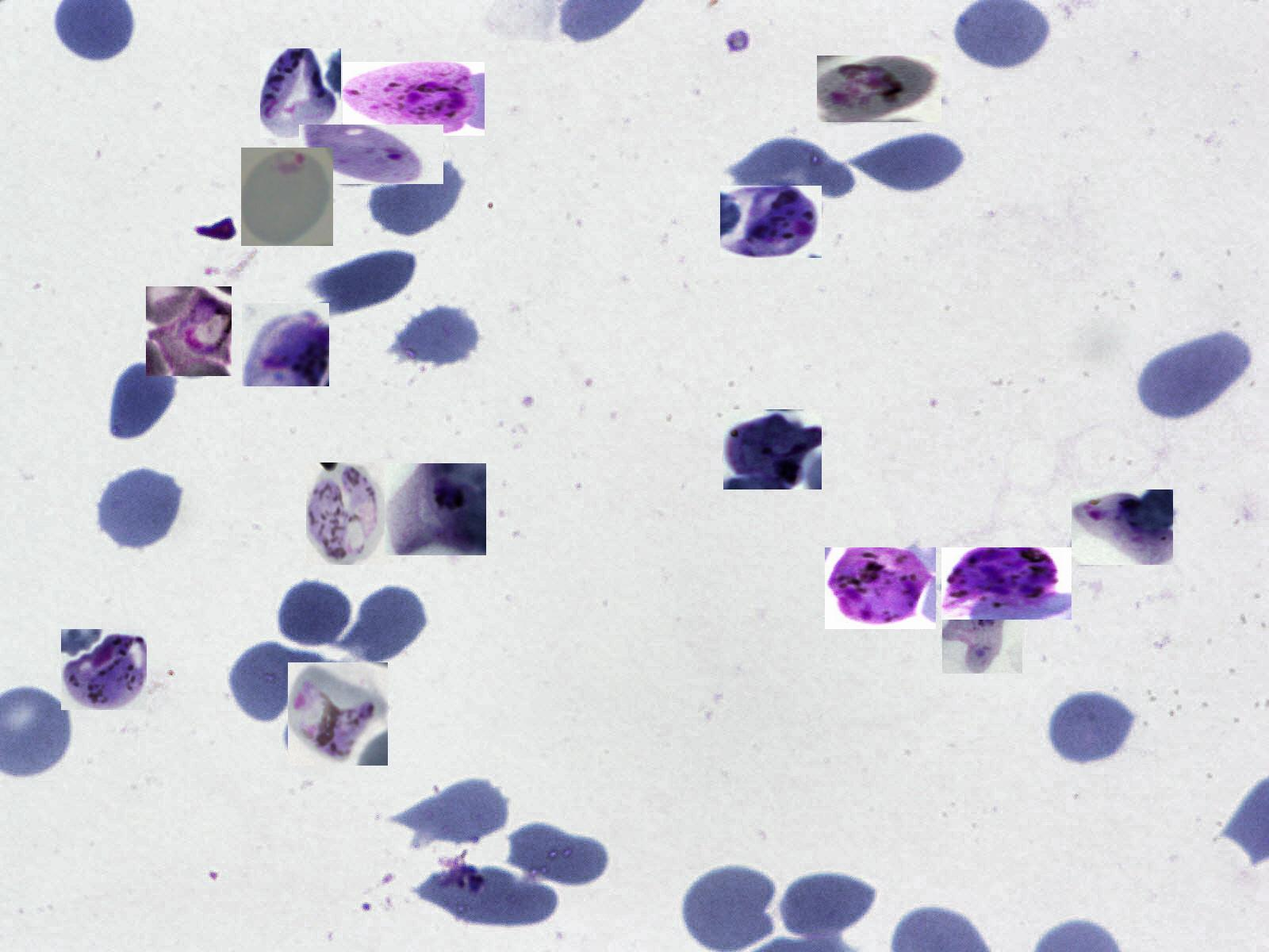Infected: (343, 62, 485, 136), (289, 662, 389, 766), (941, 547, 1072, 620), (385, 463, 486, 555), (825, 547, 936, 629), (241, 148, 333, 246), (300, 125, 443, 184), (306, 463, 388, 565), (817, 56, 941, 122), (723, 409, 822, 489), (1072, 489, 1173, 565), (147, 286, 232, 376), (720, 186, 822, 258), (260, 48, 341, 138), (242, 303, 329, 386), (61, 629, 147, 710), (942, 602, 1022, 674)
Uninfected: (1135, 328, 1250, 422), (411, 867, 558, 927), (845, 125, 971, 194), (367, 155, 466, 240), (228, 642, 326, 727), (681, 865, 775, 952), (390, 777, 513, 843), (309, 244, 419, 317), (727, 138, 857, 198), (512, 818, 612, 894), (94, 466, 182, 551), (1047, 689, 1139, 768), (336, 584, 427, 662), (391, 300, 485, 374), (779, 868, 876, 937), (108, 362, 178, 440), (278, 578, 350, 648)
